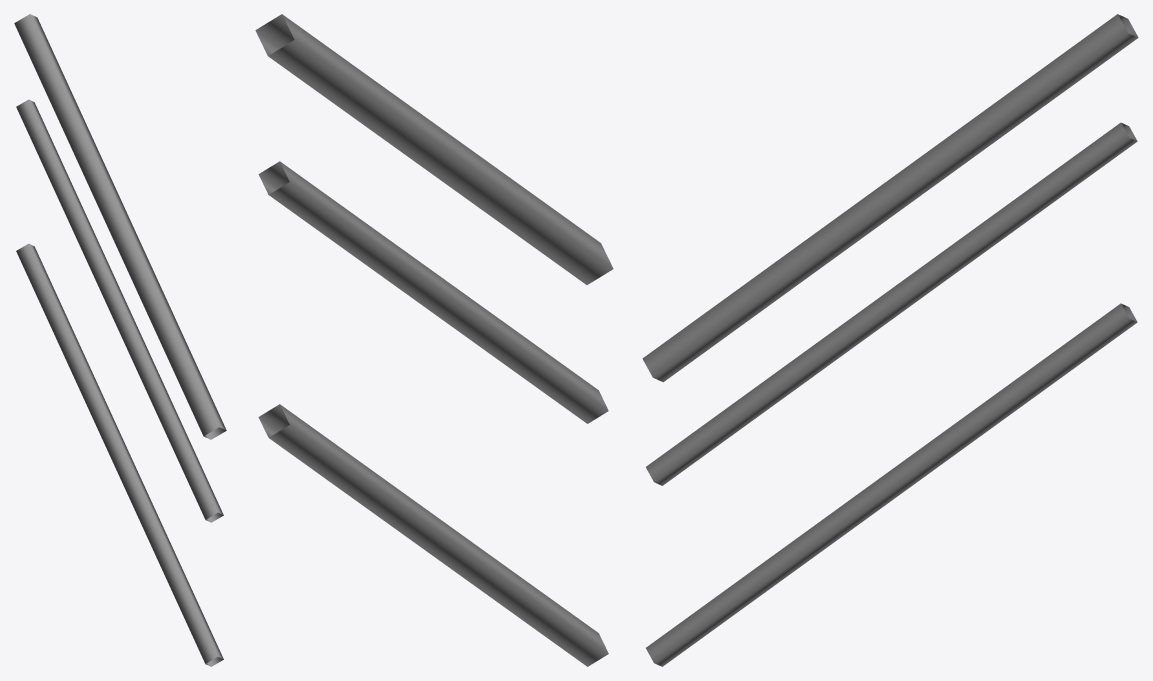
File: SW_ENV_Railing_StairRails_04.fbx
3 views of the same model, side by side, from view 1: azimuth 30°, elevation 25°; view 2: azimuth 150°, elevation 25°; view 3: azimuth 270°, elevation 25° (orthographic). The views are drawn at different scales.
Parts seen in each view (by area): view 1: SW_ENV_Railing_StairRails_04; view 2: SW_ENV_Railing_StairRails_04; view 3: SW_ENV_Railing_StairRails_04.
Part boxes in pixels (bbox=[...]): SW_ENV_Railing_StairRails_04: bbox=[14, 14, 226, 666]; SW_ENV_Railing_StairRails_04: bbox=[255, 14, 613, 666]; SW_ENV_Railing_StairRails_04: bbox=[642, 14, 1138, 666].
Size of the model in its own units: 0.0712 by 1.52 by 1.04.
